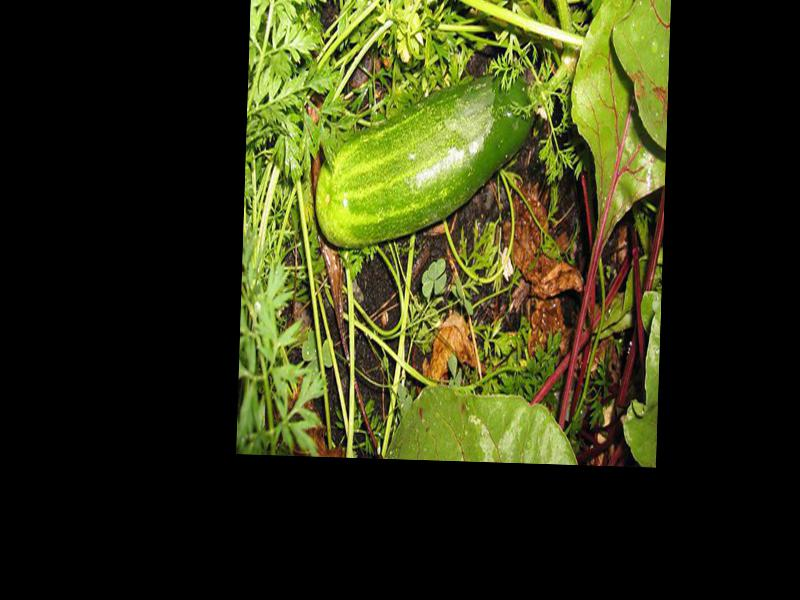Cucumber: (317, 60, 536, 255)
